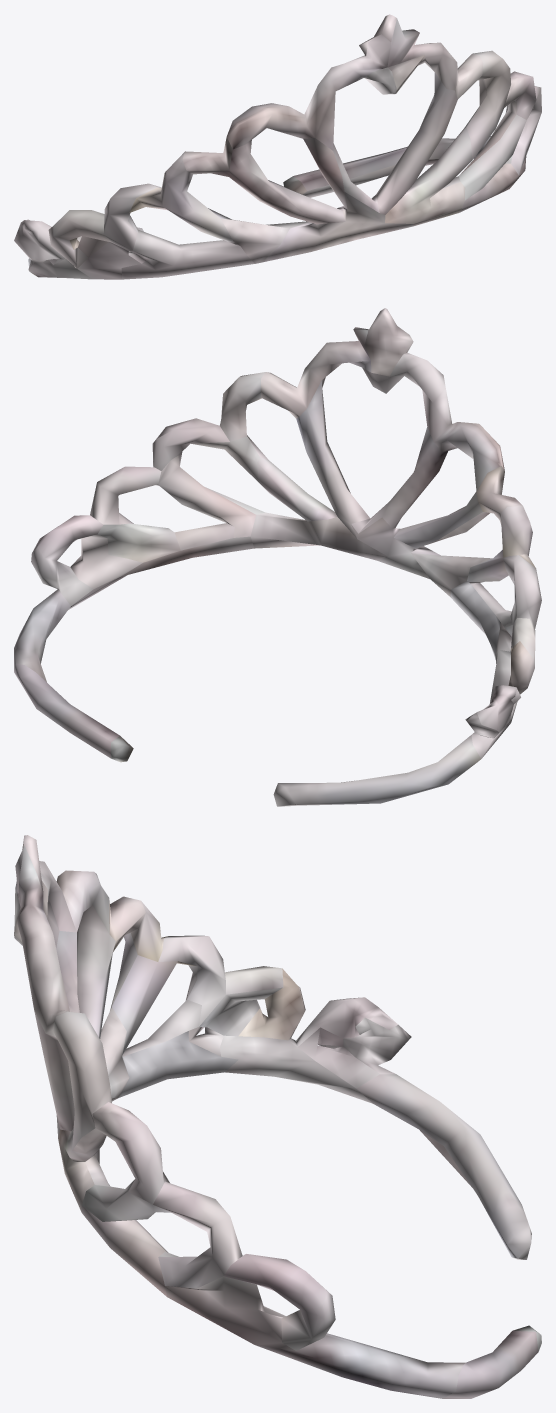
The picture shows the model from 3 angles, top to bottom: view 1: azimuth 30°, elevation 25°; view 2: azimuth 150°, elevation 25°; view 3: azimuth 270°, elevation 25°; orthographic projection. The views are drawn at different scales.
Visible parts, largest first — view 1: Silver-Tiara-02; view 2: Silver-Tiara-02; view 3: Silver-Tiara-02.
Part boxes in pixels (box(x1,y1,x2,y2)): Silver-Tiara-02: box(14, 14, 541, 279); Silver-Tiara-02: box(14, 308, 541, 806); Silver-Tiara-02: box(14, 835, 541, 1398).
Bounding box in the file's own units: 0.319 × 0.2146 × 0.2156.
Materials: 1 (1 with a texture image).
